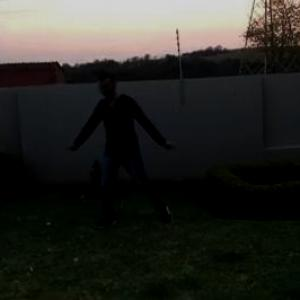land: (61, 57, 180, 232)
